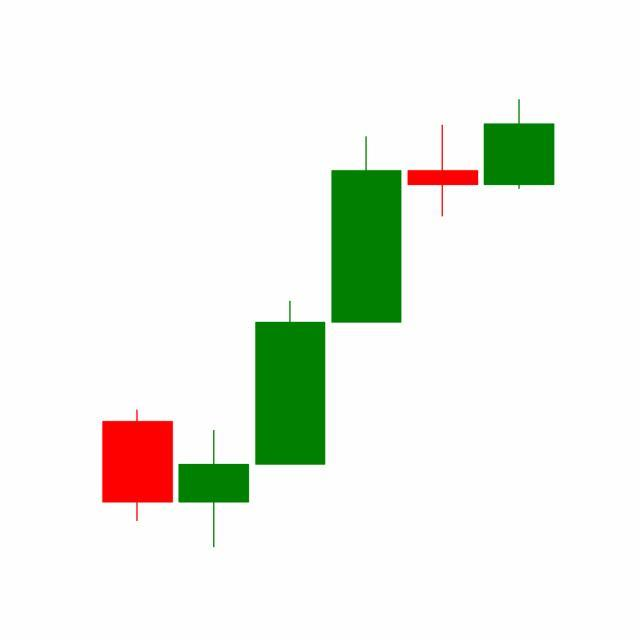Hanging Man: (404, 125, 482, 219)
